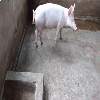heo: (29, 1, 82, 52)
